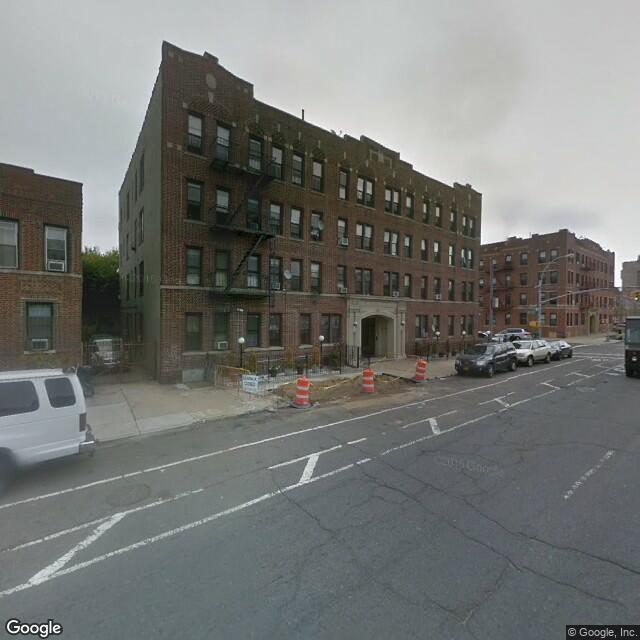litter: (162, 468, 166, 471)
